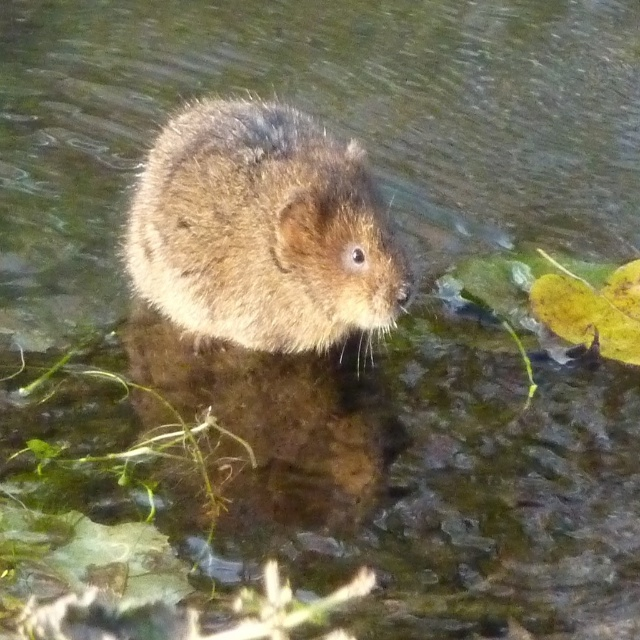Mouse: (124, 97, 411, 356)
